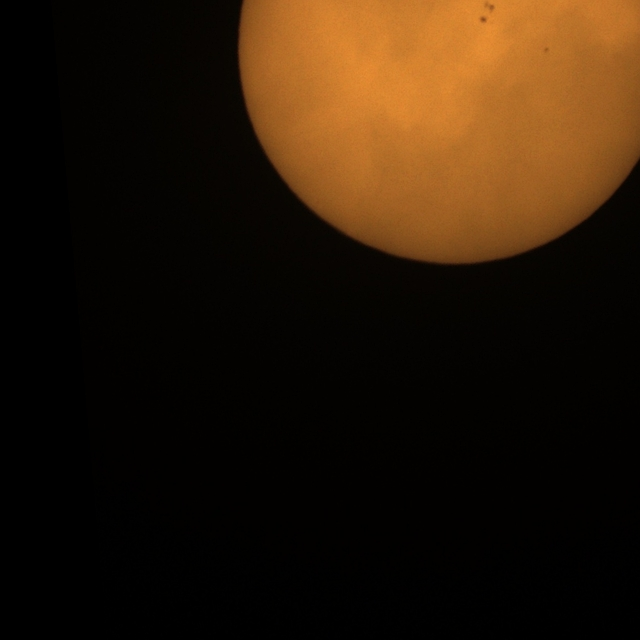sunspot: (478, 1, 496, 24), (543, 46, 550, 54)
